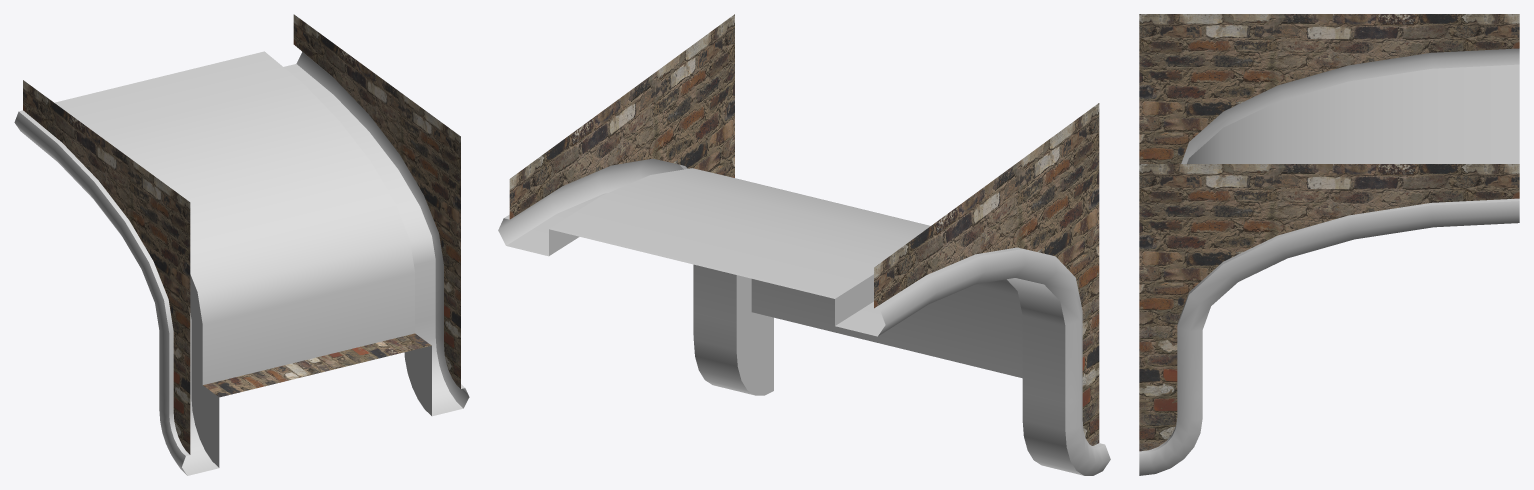
Rendered from SM_Tunnel_Side.fbx.
3 renders of one model, left to right at view 1: azimuth 30°, elevation 25°; view 2: azimuth 150°, elevation 25°; view 3: azimuth 270°, elevation 25°, orthographic. The views are drawn at different scales.
Visible parts, largest first — view 1: SM_Tunnel_Side; view 2: SM_Tunnel_Side; view 3: SM_Tunnel_Side.
Part boxes in pixels (box(x1,y1,x2,y2)): SM_Tunnel_Side: box(14, 14, 469, 475); SM_Tunnel_Side: box(498, 14, 1110, 475); SM_Tunnel_Side: box(1139, 14, 1519, 475).
Bounding box in the file's own units: 2.98 × 2.7 × 3.
